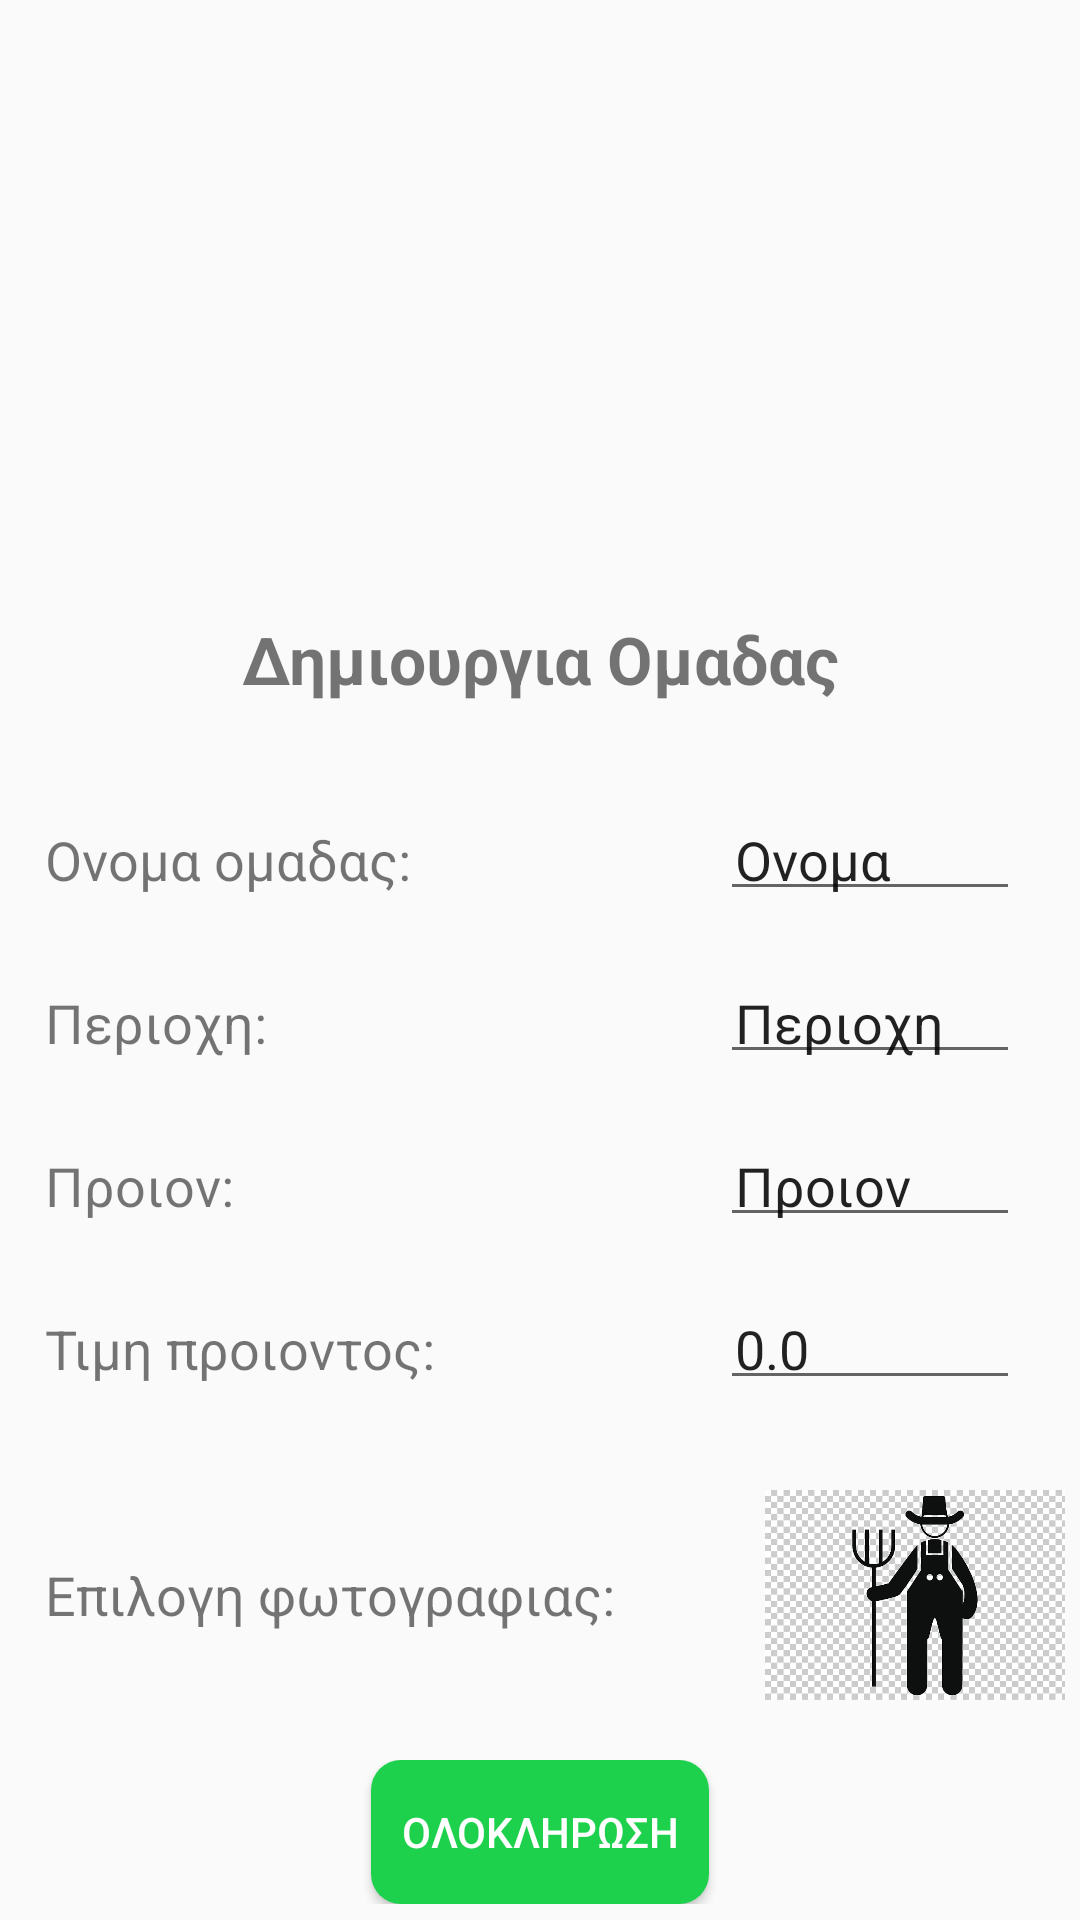

Where to tap for icons on this 1080px x 1920px app screen, as [x,y]:
farmer: [915,1595]
